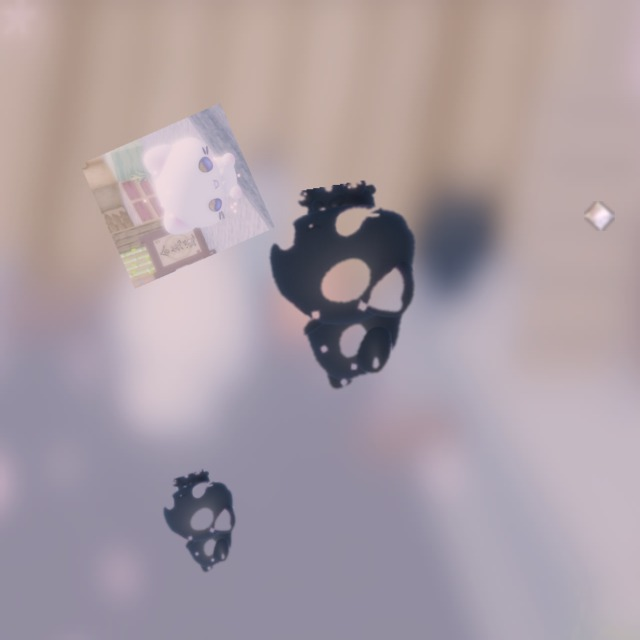urso_branco: (80, 103, 275, 289), (584, 201, 615, 231)
urso_preto: (244, 172, 446, 413), (147, 462, 258, 588)
